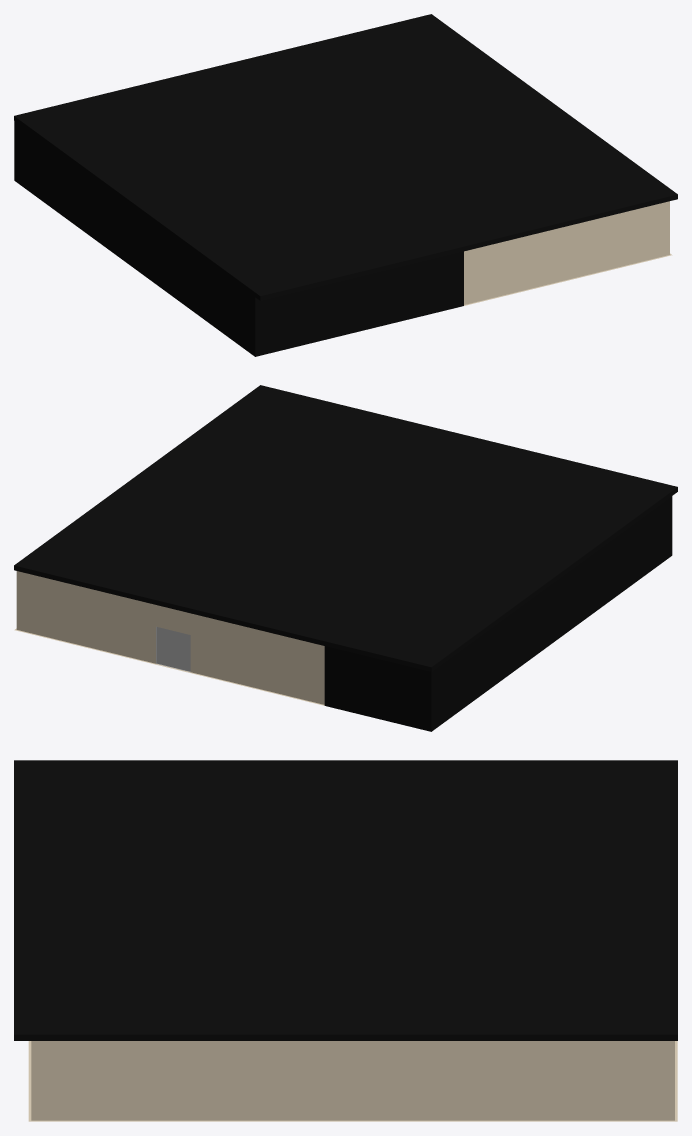
The model's file is CarDealer.fbx.
3 renders of one model, top to bottom at view 1: azimuth 30°, elevation 25°; view 2: azimuth 150°, elevation 25°; view 3: azimuth 270°, elevation 25°, orthographic. The views are drawn at different scales.
Visible parts, largest first — view 1: Plane, Plane.002; view 2: Plane, Plane.002, Plane.003, Plane.005; view 3: Plane, Plane.002, Plane.005.
Part boxes in pixels (x1=…): Plane: x1=14, y1=14, x2=677, y2=356; Plane.002: x1=464, y1=201, x2=669, y2=304; Plane: x1=14, y1=385, x2=677, y2=731; Plane.002: x1=17, y1=571, x2=324, y2=703; Plane.003: x1=157, y1=627, x2=190, y2=670; Plane.005: x1=16, y1=571, x2=324, y2=704; Plane: x1=14, y1=760, x2=677, y2=1121; Plane.002: x1=32, y1=1041, x2=673, y2=1119; Plane.005: x1=31, y1=1041, x2=674, y2=1120.
Size of the model in its own units: 2984 by 443 by 3051.
